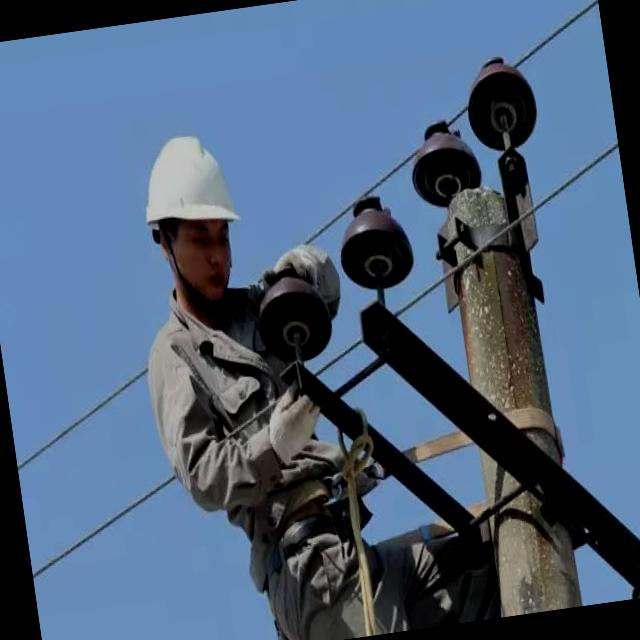helmet: (129, 130, 241, 237)
